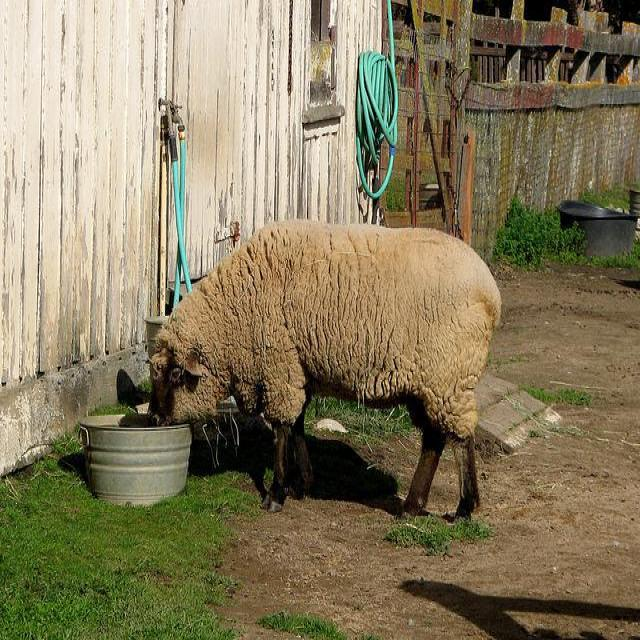Sheep: (145, 222, 505, 518)
